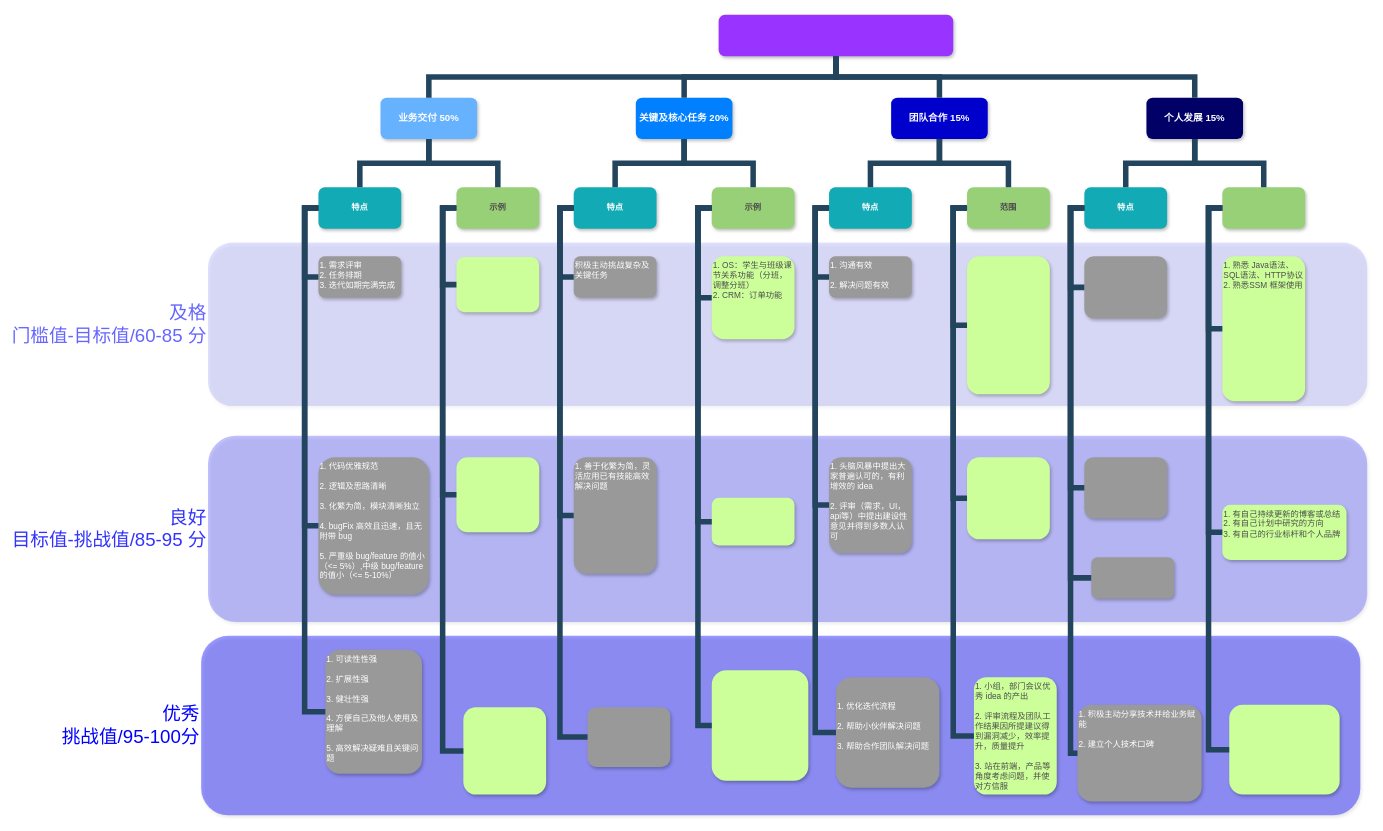
Some shapes in this 1383 by 831 pixel diagram are drawn without their labels. Each missing label, with the centre of its shape:
"1. git flow 流程指定 2. 统一错误码格式 3. 统一静态代码分析功能" goes at point 1009,499.
"1. MQ 可靠消息抽象，封装 2. 数据库查询缓存抽象，封装 3.CICD 系统的贡献 4. Json, Date,excel 等工具类封装" goes at point 760,726.
"1. 下单功能实现 2. 支付功能实现 3. 学生分班功能实现" goes at point 498,285.
"1. 在约束下提升自己 2. 掌握工具，能熟练应用" goes at point 1126,288.
"1. 在行业内打造自己的影响力，如在 StackOverflow，GitHub上建立自己可以量化的行业指标" goes at point 1284,750.
"1. 抽象，实现工具类，公用功能封装" goes at point 629,737.
"1. 指出PRD，API，UI，QA 文档中的不合理之处，并给出解决方案 2. 同理心基础：具备所沟通对象的知识体系，并对其提出良好建议" goes at point 1009,326.
"1. 按阿里代码规范实现 2. DRY：write less，do more" goes at point 498,495.
"1. 有自驱力，持续优化 2. 积极主动研究对团队有利的技术或工具" goes at point 1126,488.
"1. 自己及他人的撇脚或晦涩代码优化及重构" goes at point 753,522.
"1. 适当的使用设计模式实现功能 2. 能从优秀开源作品中汲取好的开发实践，使作品具有很大价值" goes at point 505,751.
"关注性能及底层原理" goes at point 1133,578.
"内容" goes at point 1264,208.
"绩效指标" goes at point 836,36.
